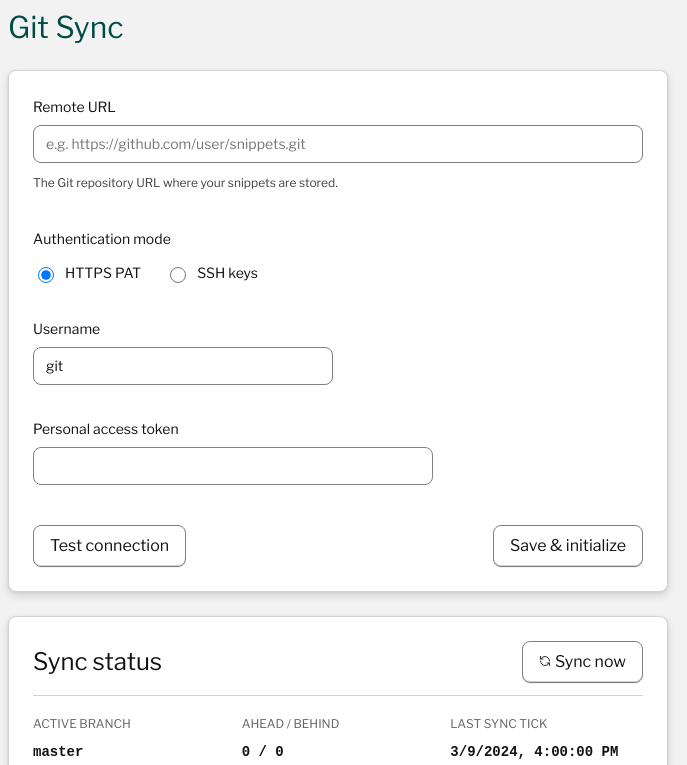
Test: SyncPanel › test connection happy path shows success
This screenshot has width=687, height=765.
Type "https://example.com/repo.git" into the field labelled "Remote URL" at (338, 144), box [33,125,643,163]
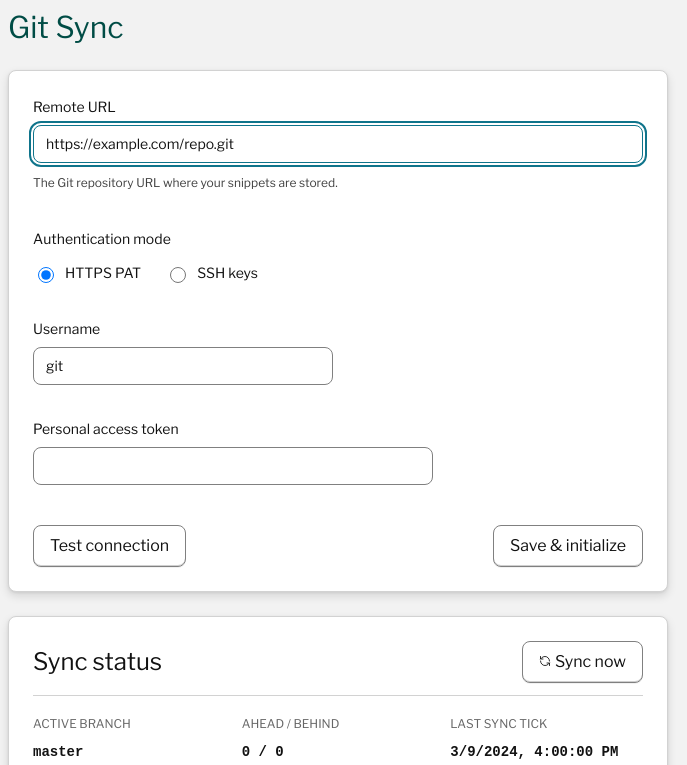
Type "pat-123" into the password field labelled "Personal access token" at (233, 466), box [33,447,433,485]
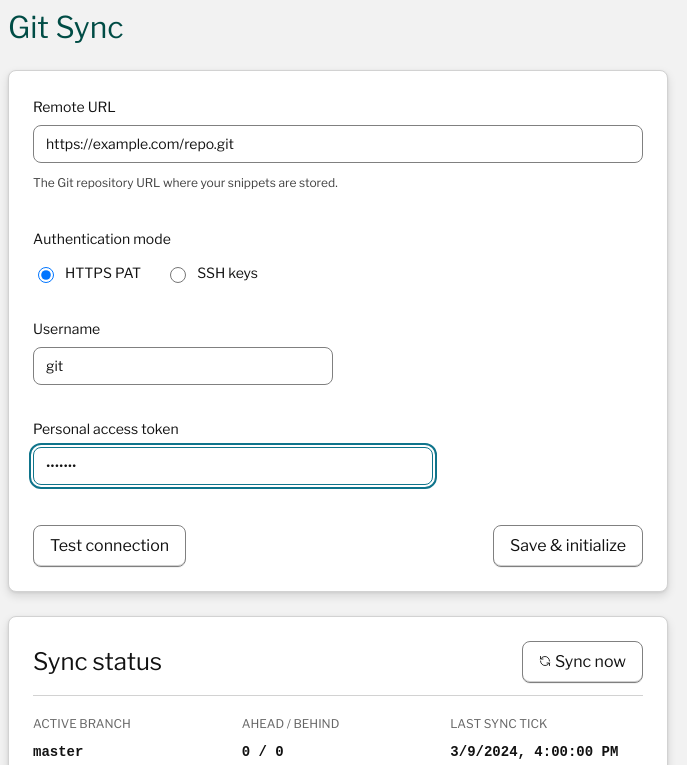
Click the button "Test connection" at (110, 546), box [33,525,186,567]
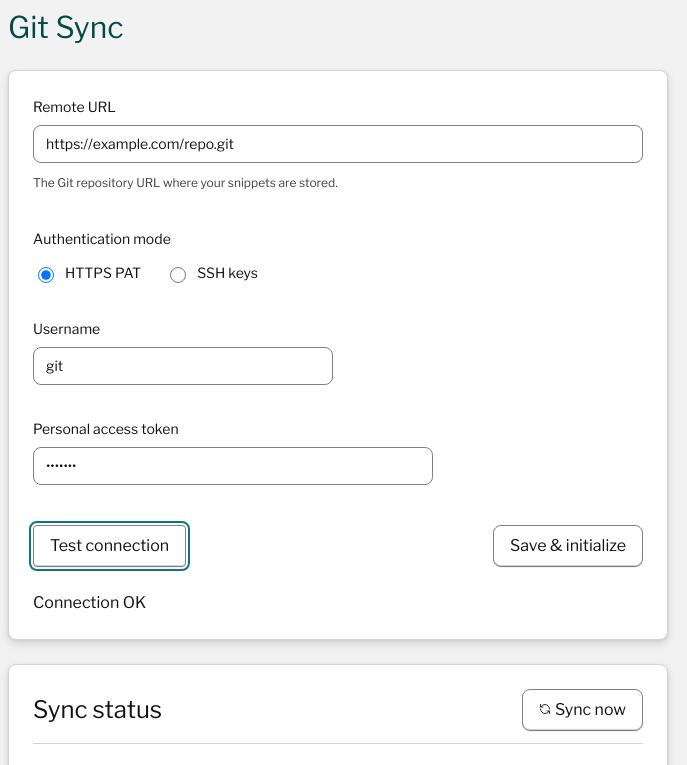
Expected: the text "Connection OK" is shown, [33,591,146,615]
